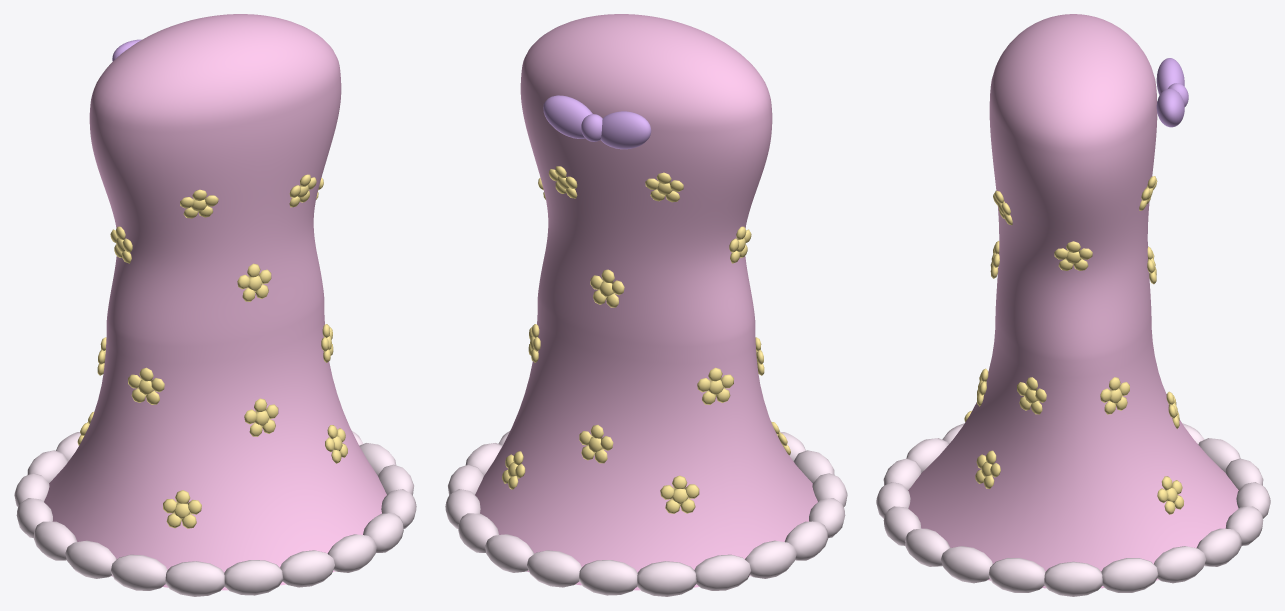
File: party_dress.glb
3 renders of one model, left to right at view 1: azimuth 30°, elevation 25°; view 2: azimuth 150°, elevation 25°; view 3: azimuth 270°, elevation 25°, orthographic.
Visible parts, largest first — view 1: Body; view 2: Body; view 3: Body.
Boxes of the visible parts, x1=… form: Body: x1=14, y1=14, x2=416, y2=596; Body: x1=445, y1=14, x2=847, y2=596; Body: x1=876, y1=14, x2=1270, y2=596.
Size of the model in its own units: 0.6269 by 0.8406 by 0.6213.
